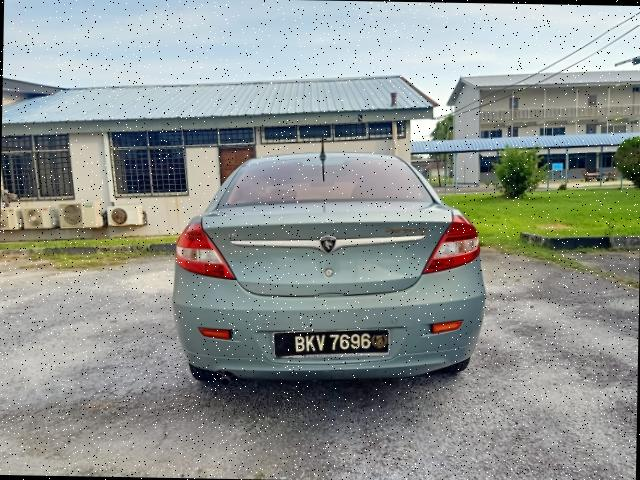License_Plate: (286, 332, 385, 357)
car: (168, 144, 494, 386)
